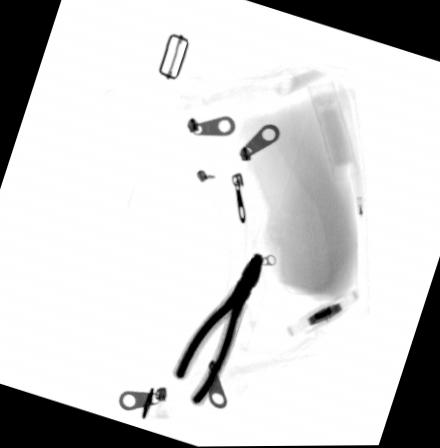Pliers: (171, 252, 264, 406)
